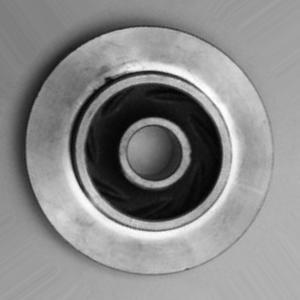crack: (95, 74, 126, 91)
unpolished_casting: (22, 24, 275, 275)
